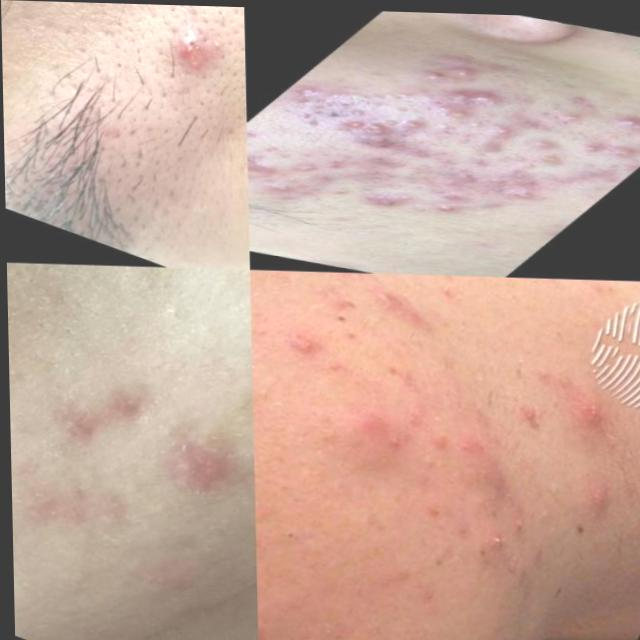8: (156, 433, 251, 510), (317, 396, 402, 480), (566, 376, 640, 448), (576, 463, 640, 535), (266, 319, 343, 373), (283, 156, 333, 177), (246, 150, 282, 175), (416, 64, 459, 83), (431, 186, 471, 201)
9: (465, 520, 532, 568), (504, 185, 559, 202), (544, 107, 590, 126), (259, 179, 299, 194), (393, 114, 432, 129), (606, 142, 640, 159), (436, 105, 480, 118), (565, 138, 605, 152), (336, 116, 373, 130), (483, 121, 519, 135), (535, 149, 571, 162)
blackheads: (29, 365, 165, 481), (138, 3, 245, 99), (438, 159, 525, 193), (428, 82, 519, 112), (349, 122, 420, 152), (354, 185, 428, 210), (286, 79, 339, 102), (602, 110, 640, 134), (445, 62, 490, 79), (427, 200, 465, 215)
dark spot: (264, 512, 329, 561), (424, 118, 466, 133)
